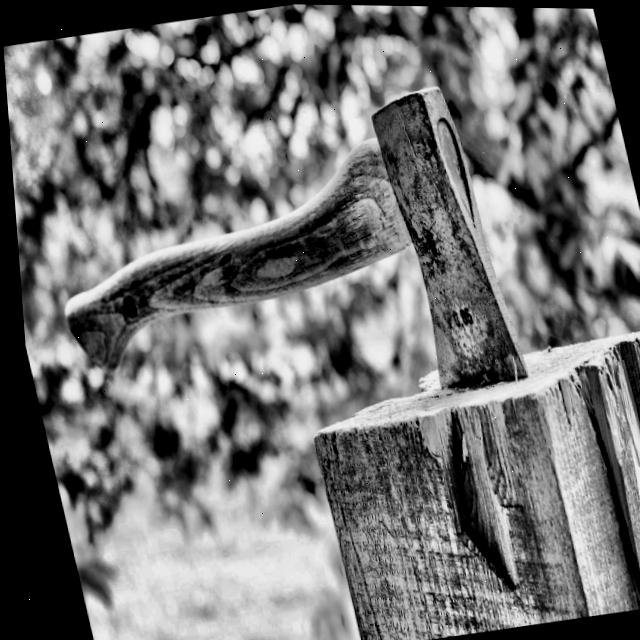kapak: (54, 86, 531, 385)
